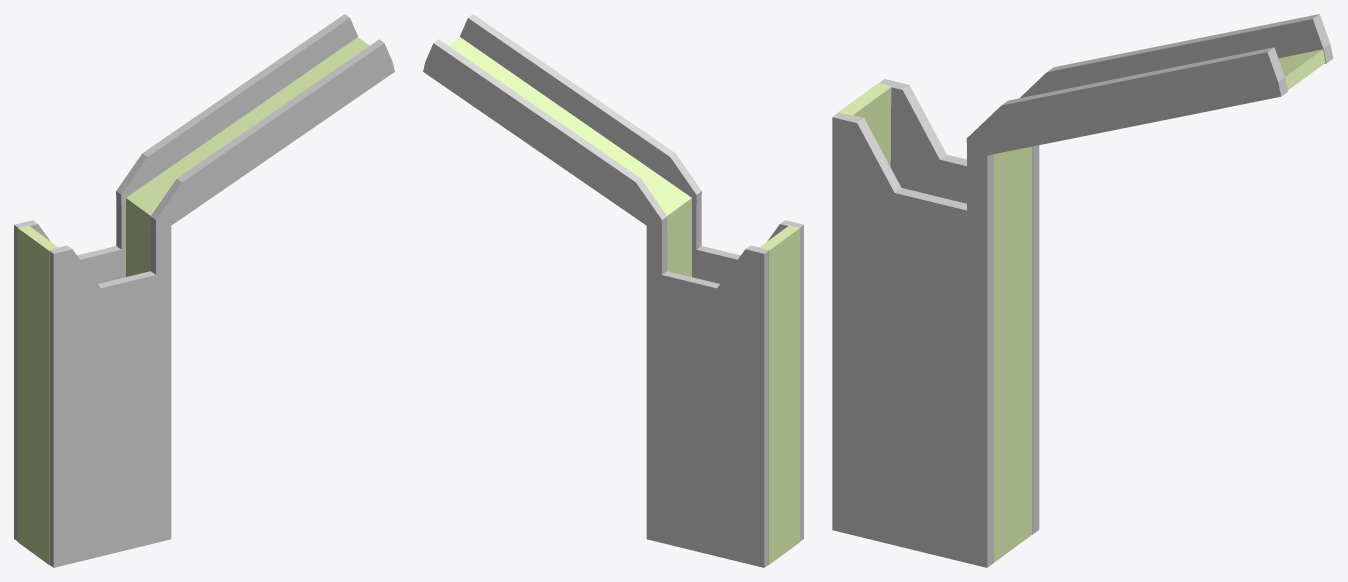
The model's file is Safe (1).fbx.
3 renders of one model, left to right at view 1: azimuth 30°, elevation 25°; view 2: azimuth 150°, elevation 25°; view 3: azimuth 330°, elevation 25°, orthographic. The views are drawn at different scales.
Parts seen in each view (by area): view 1: Cube__2_; view 2: Cube__2_; view 3: Cube__2_.
Boxes of the visible parts, <box> form: Cube__2_: <box>14,14,394,567</box>; Cube__2_: <box>423,14,803,567</box>; Cube__2_: <box>832,14,1333,567</box>.
Size of the model in its own units: 638 by 792 by 128.
